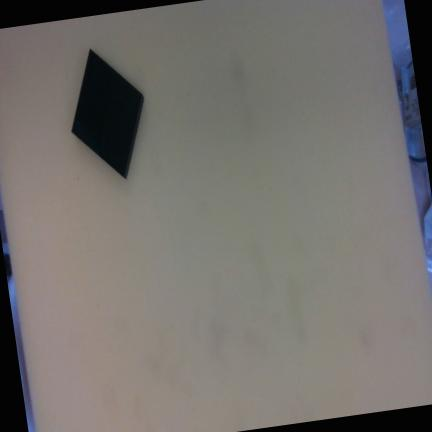tile: (62, 48, 150, 176)
